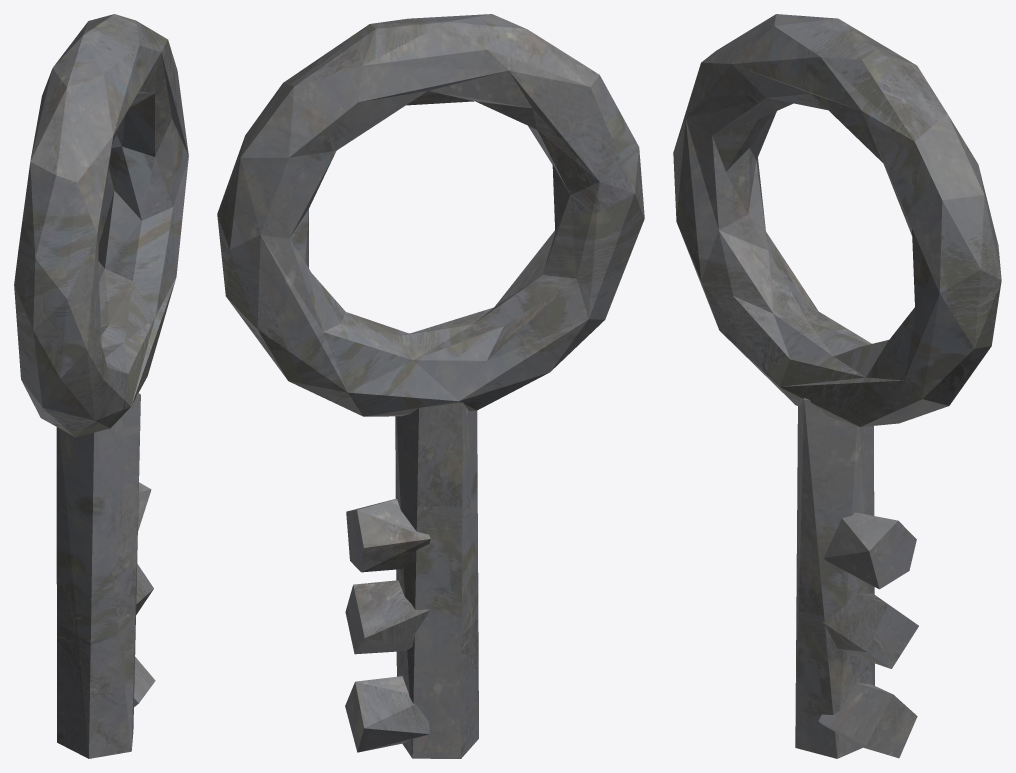
Rendered from key.glb.
3 renders of one model, left to right at view 1: azimuth 30°, elevation 25°; view 2: azimuth 150°, elevation 25°; view 3: azimuth 270°, elevation 25°, orthographic. The views are drawn at different scales.
Visible parts, largest first — view 1: Key; view 2: Key; view 3: Key.
Boxes of the visible parts, <box> form: Key: <box>14,14,188,758</box>; Key: <box>217,14,644,758</box>; Key: <box>673,14,1001,758</box>.
Size of the model in its own units: 0.2311 by 0.5552 by 0.2308.
1 material, 1 textured.
